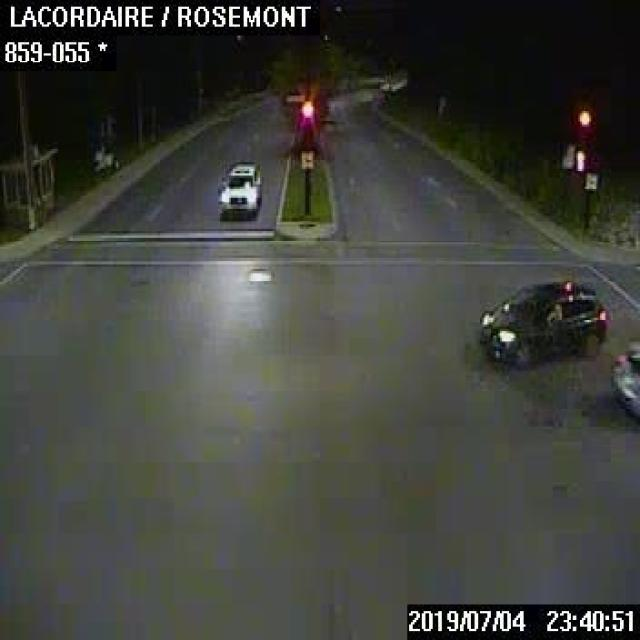vehicle: (478, 278, 605, 367), (218, 161, 259, 216), (609, 347, 638, 414)
